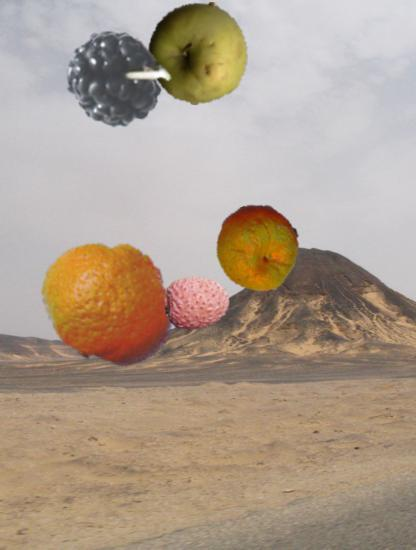Apple: (146, 1, 251, 106)
Lychee: (165, 270, 231, 336)
Mandarine: (39, 232, 179, 372), (214, 203, 305, 294)
Mulberry: (45, 23, 163, 141)
